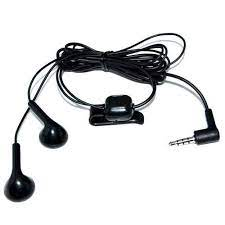earphone: (5, 32, 220, 202)
